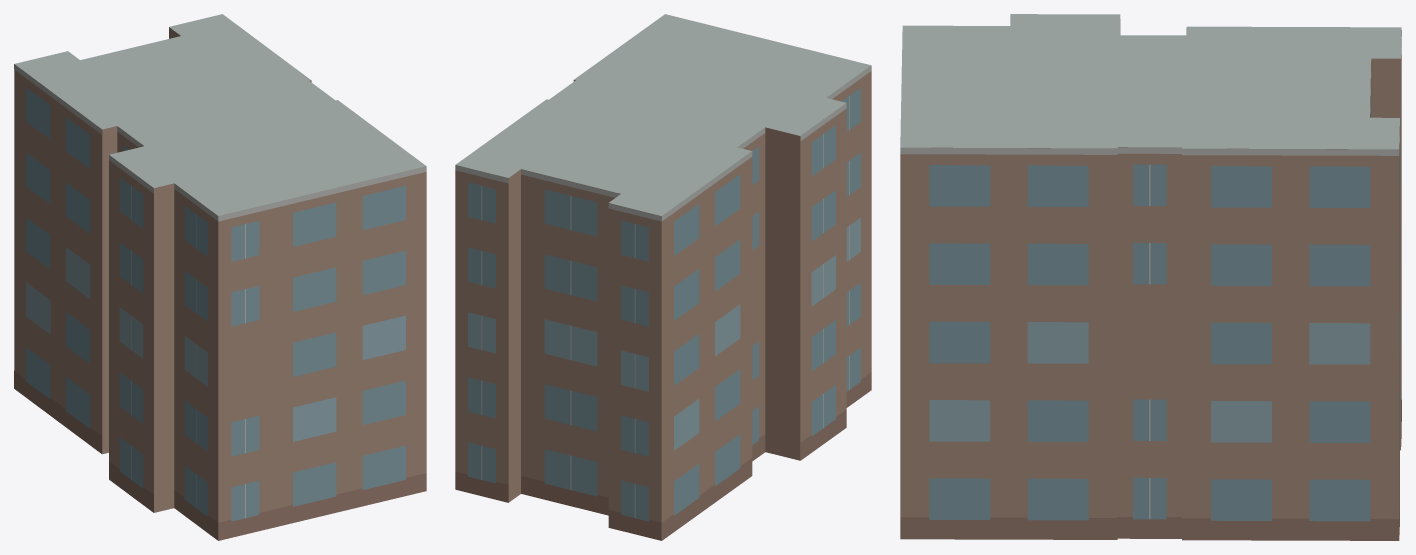
The model's file is survey-upis-32873711.glb.
3 renders of one model, left to right at view 1: azimuth 30°, elevation 25°; view 2: azimuth 150°, elevation 25°; view 3: azimuth 270°, elevation 25°, orthographic. The views are drawn at different scales.
Parts seen in each view (by area): view 1: survey-upis-32873711.tmp; view 2: survey-upis-32873711.tmp; view 3: survey-upis-32873711.tmp.
Part boxes in pixels (bbox=[...]): survey-upis-32873711.tmp: bbox=[14, 14, 426, 540]; survey-upis-32873711.tmp: bbox=[455, 14, 871, 540]; survey-upis-32873711.tmp: bbox=[900, 14, 1401, 540].
Size of the model in its own units: 10.75 by 14.5 by 16.84.
